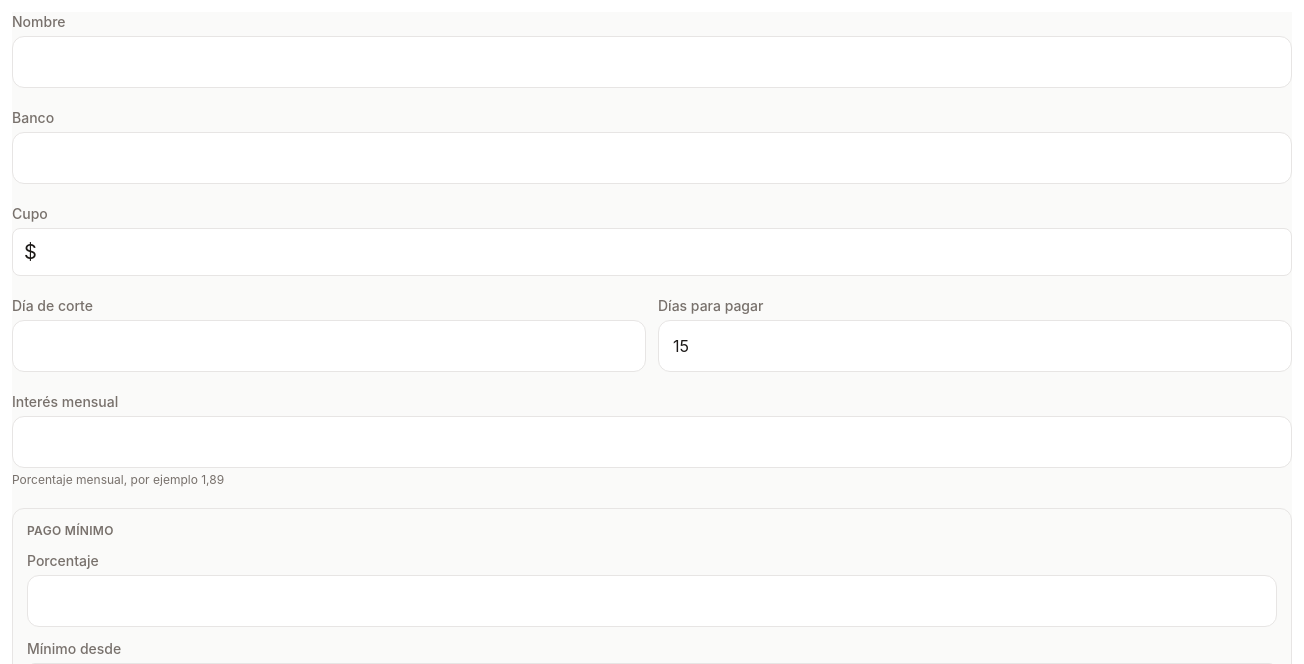
Test: CardForm › previews the next cutoff and limit date from the two day fields
Type "15" into the number field labelled "Día de corte" at (329, 346), box [12,320,646,372]
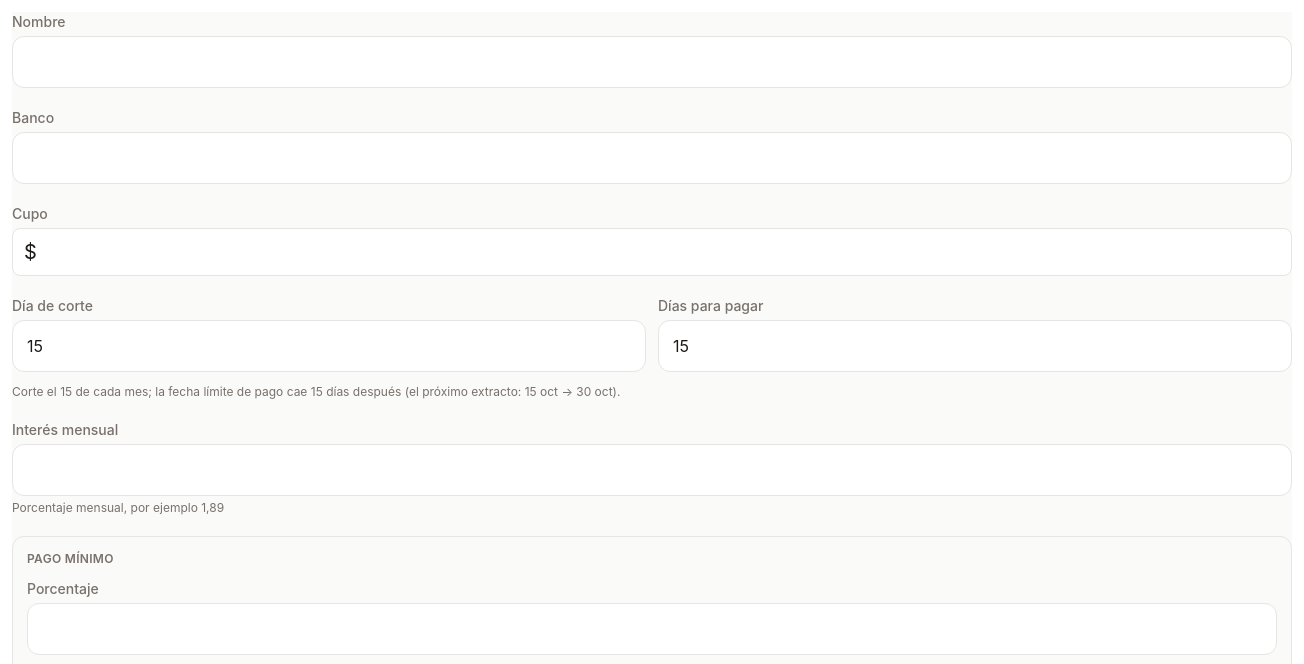
Replace the text in the number field labelled "Días para pagar" with "17" at (975, 346), box [658,320,1292,372]
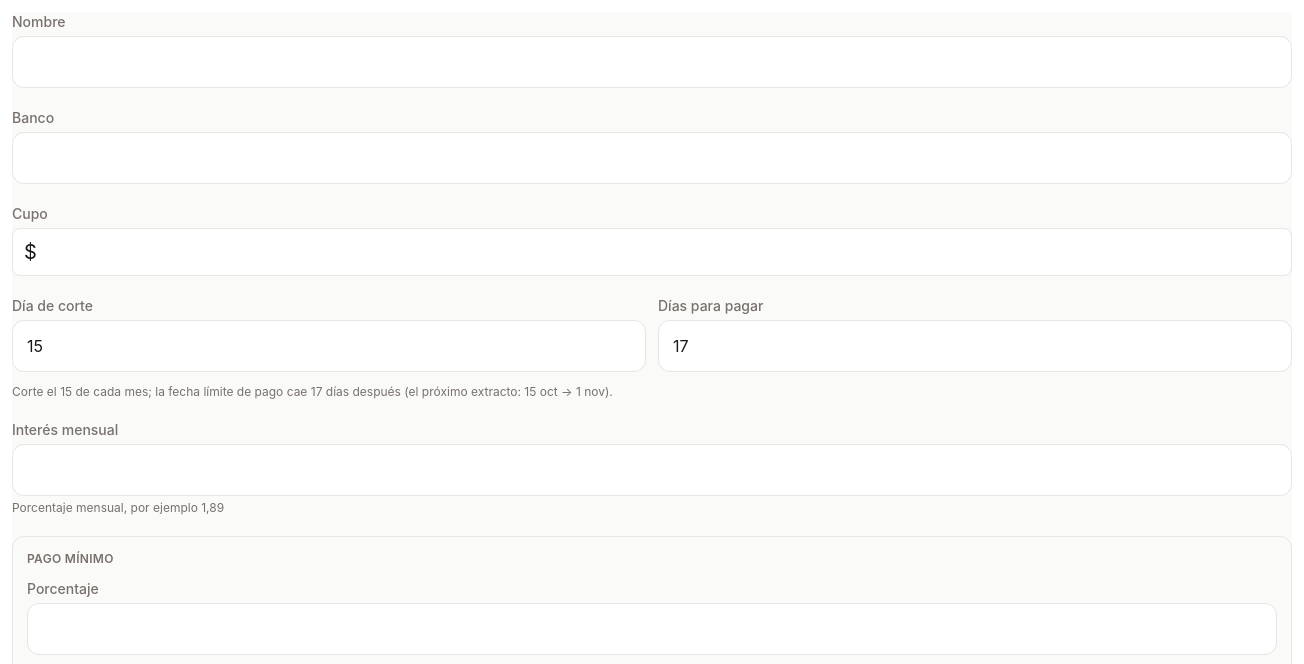
Now the text "Corte el 15 de cada mes; la fecha límite de pago cae 17 días después" is shown, box [12,384,613,399]
